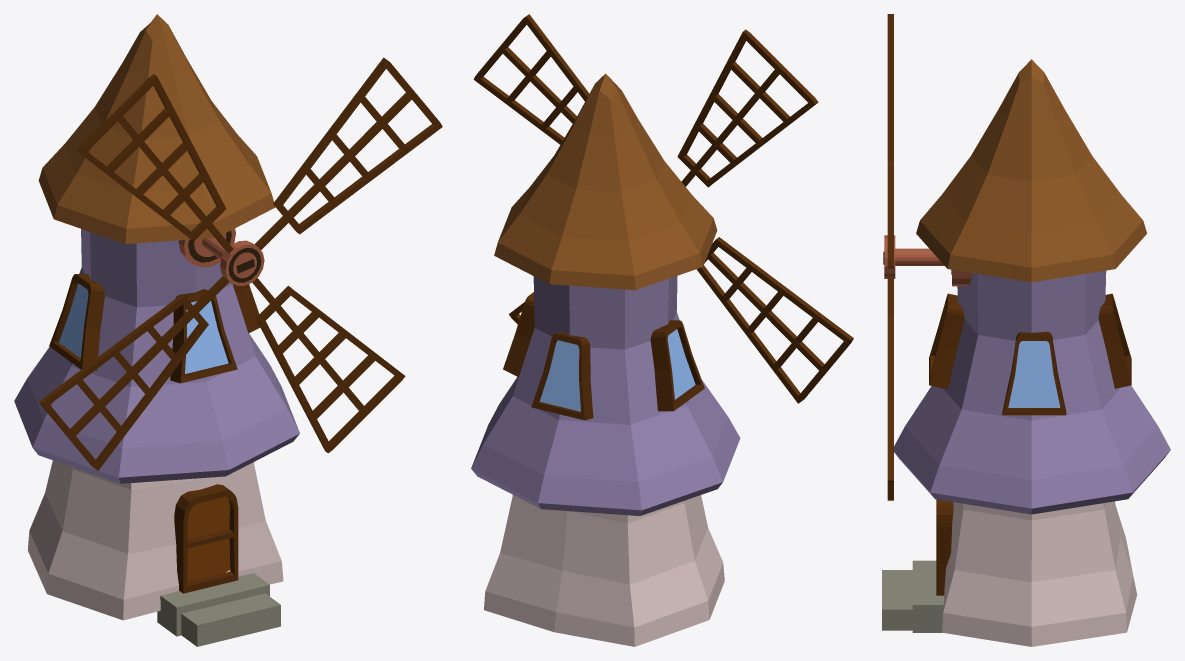
The model's file is Molino.fbx.
3 renders of one model, left to right at view 1: azimuth 30°, elevation 25°; view 2: azimuth 150°, elevation 25°; view 3: azimuth 270°, elevation 25°, orthographic. The views are drawn at different scales.
Visible parts, largest first — view 1: Cube, Cylinder.001; view 2: Cube, Cylinder.001; view 3: Cube, Cylinder.001.
Part boxes in pixels (box(x1,y1,x2,y2)): Cube: box(14, 14, 299, 646); Cylinder.001: box(39, 57, 442, 470); Cube: box(471, 73, 740, 646); Cylinder.001: box(473, 14, 853, 403); Cube: box(882, 59, 1170, 646); Cylinder.001: box(883, 14, 895, 500).
Size of the model in its own units: 4.63 by 6.38 by 2.99.
